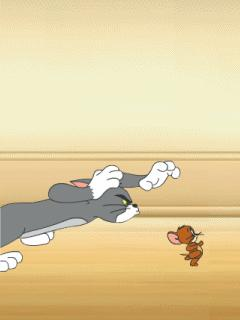jerry: (166, 224, 207, 268)
